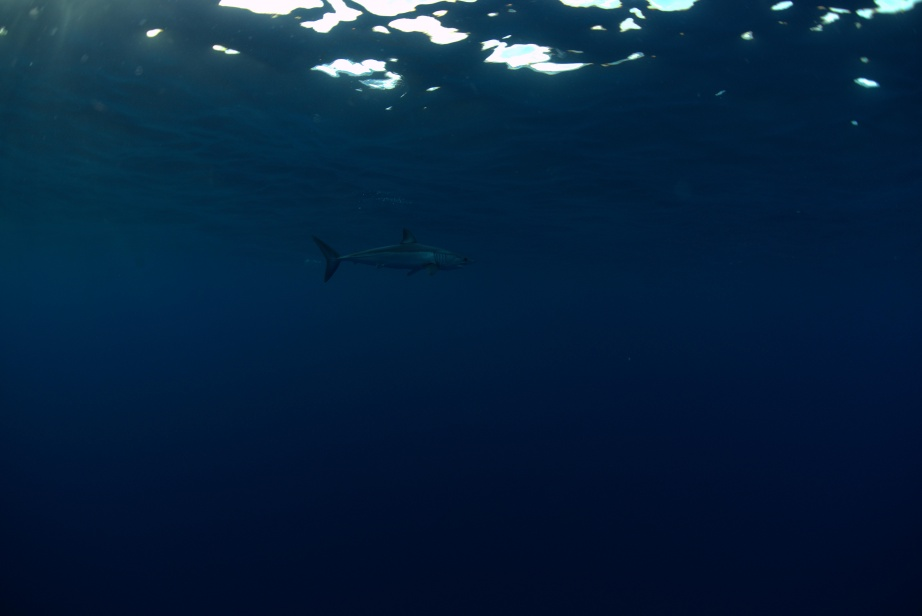Mako: (281, 212, 489, 302)
